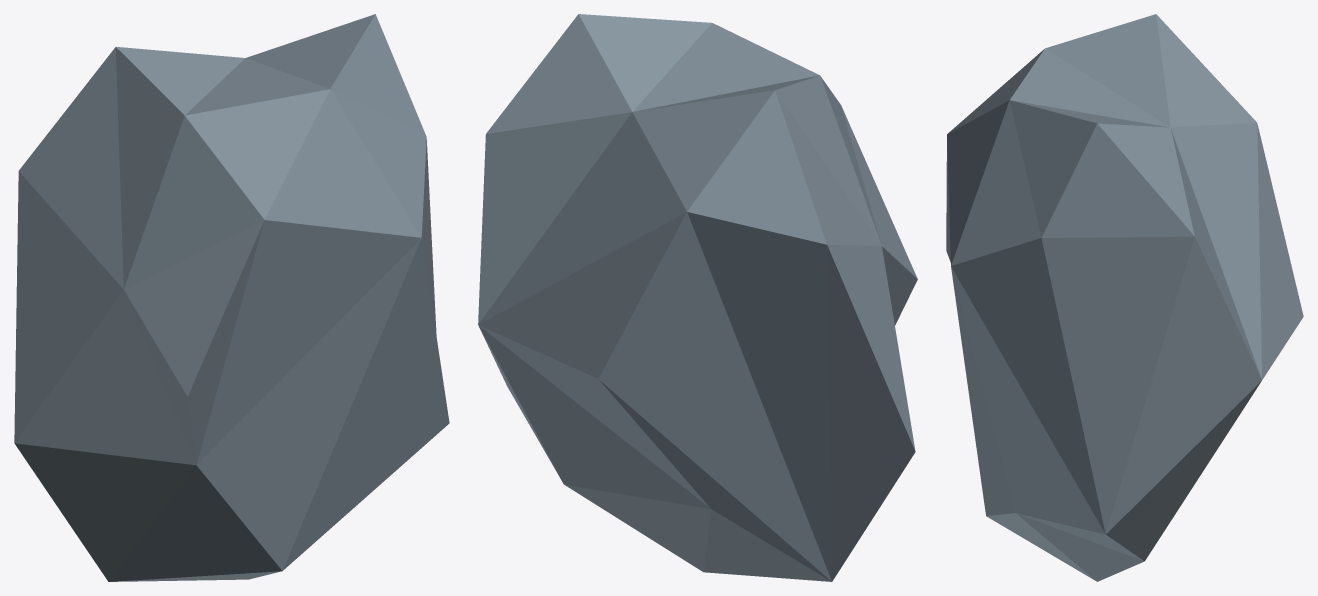
File: Rock_01_LOD1.fbx
3 views of the same model, side by side, from view 1: azimuth 30°, elevation 25°; view 2: azimuth 150°, elevation 25°; view 3: azimuth 270°, elevation 25° (orthographic). The views are drawn at different scales.
Visible parts, largest first — view 1: Rock_01_LOD1; view 2: Rock_01_LOD1; view 3: Rock_01_LOD1.
Boxes of the visible parts, bbox=[...] form: Rock_01_LOD1: bbox=[14, 14, 449, 581]; Rock_01_LOD1: bbox=[478, 14, 917, 581]; Rock_01_LOD1: bbox=[946, 14, 1303, 581].
Size of the model in its own units: 223 by 273 by 170.
